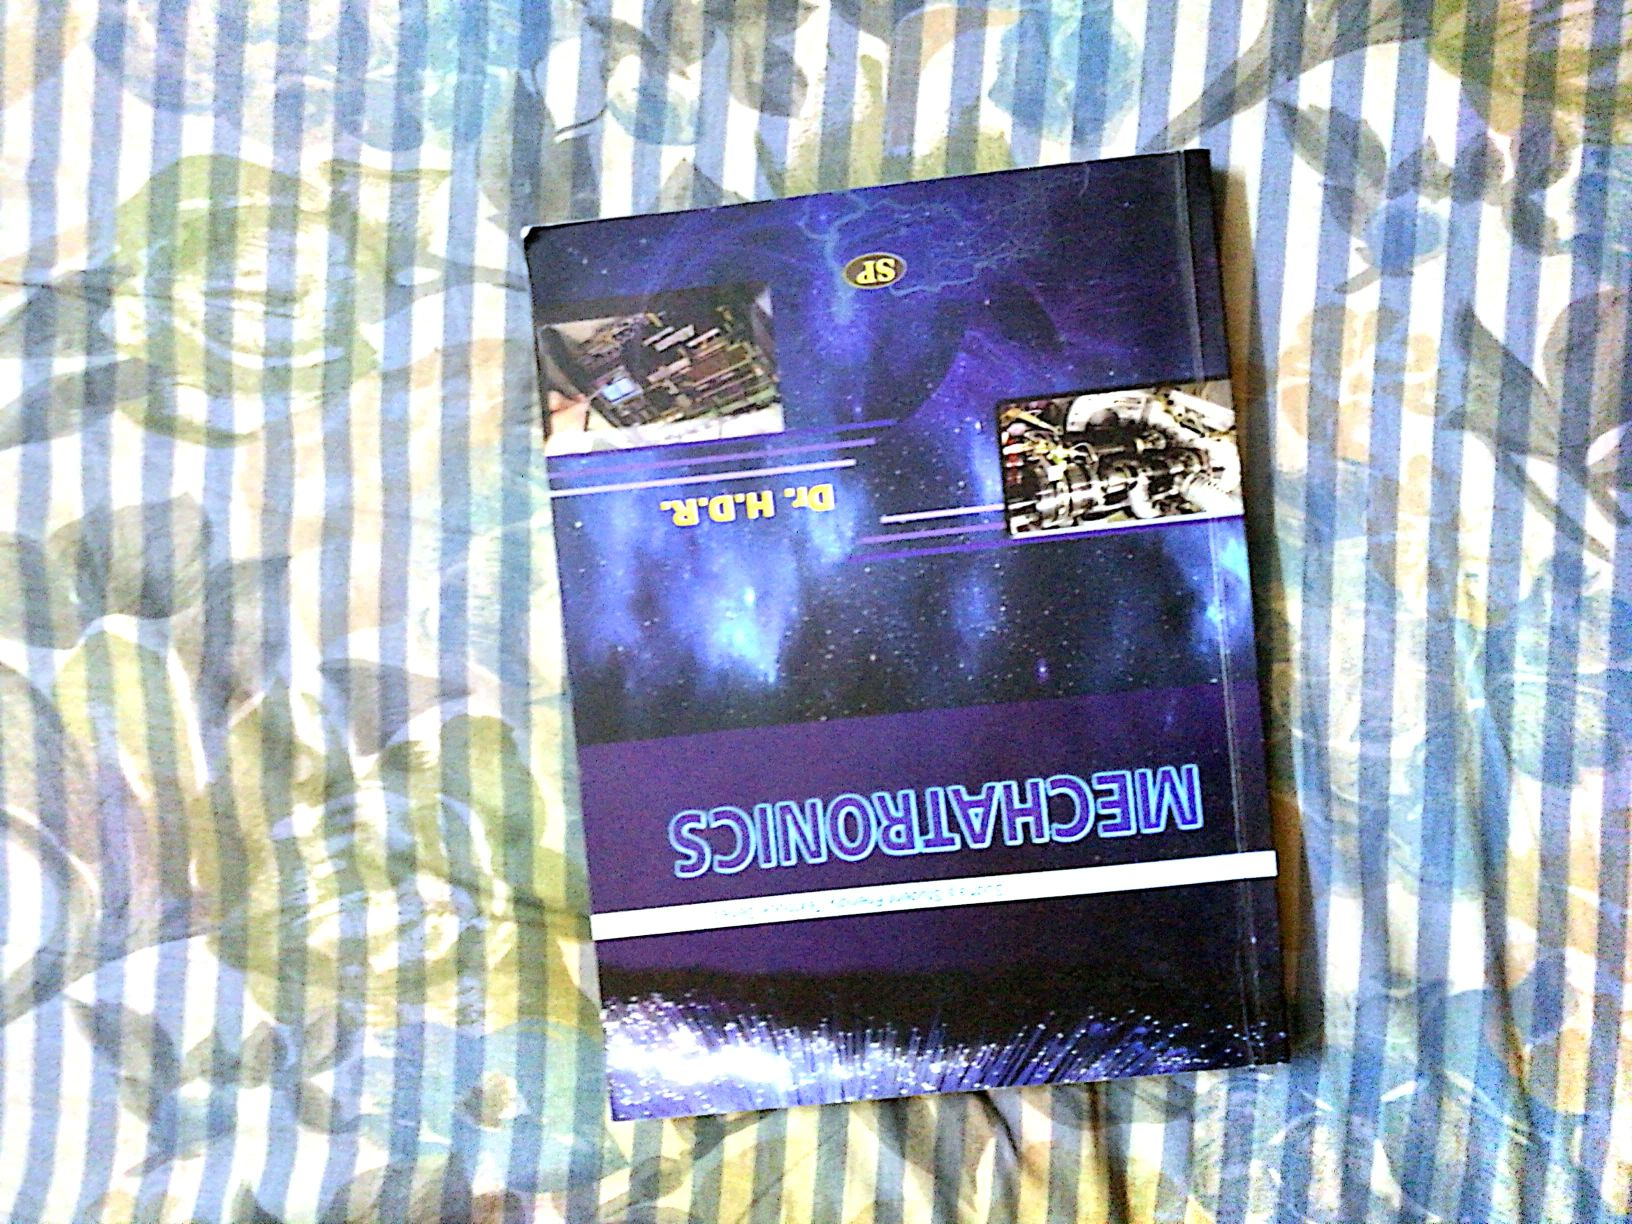mechatronics: (490, 150, 1408, 1122)
